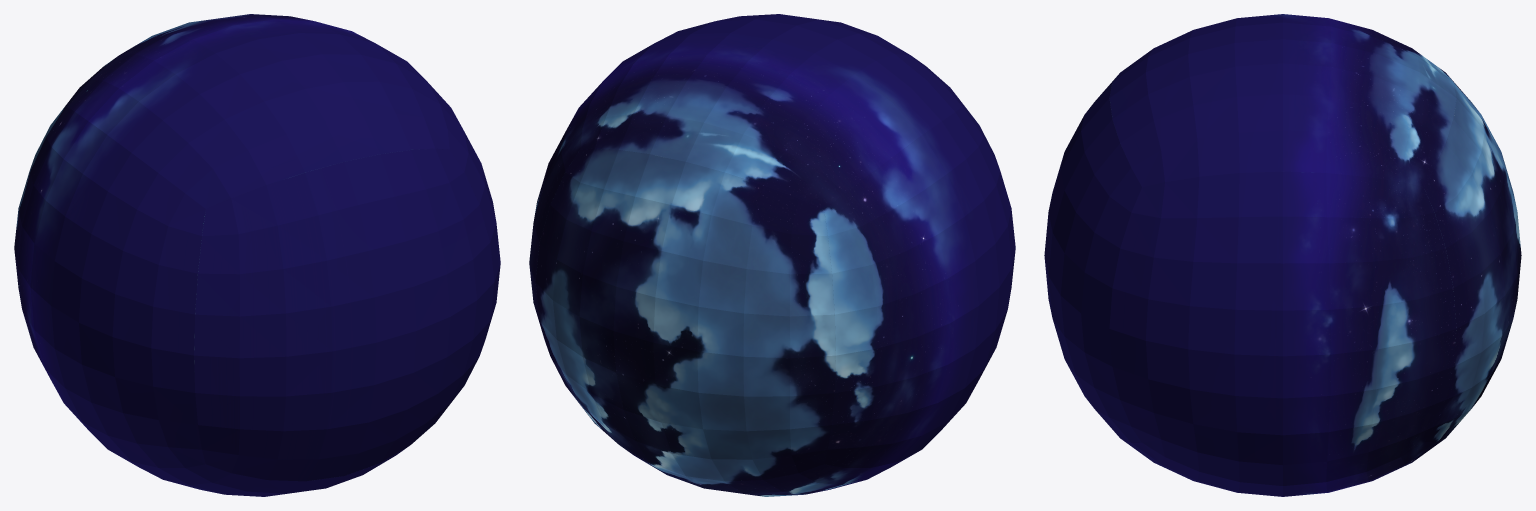
File: skybox.dae
3 renders of one model, left to right at view 1: azimuth 30°, elevation 25°; view 2: azimuth 150°, elevation 25°; view 3: azimuth 270°, elevation 25°, orthographic.
Visible parts, largest first — view 1: Bottom, Left, Back, Front, Right; view 2: Top, Left, Back, Front, Right; view 3: Right, Back, Top, Bottom, Front.
Part boxes in pixels (x1=…): Bottom: x1=194, y1=148, x2=494, y2=481; Left: x1=14, y1=106, x2=205, y2=467; Back: x1=65, y1=14, x2=449, y2=208; Front: x1=111, y1=446, x2=408, y2=496; Right: x1=427, y1=81, x2=500, y2=351; Top: x1=535, y1=148, x2=835, y2=481; Left: x1=824, y1=106, x2=1015, y2=467; Back: x1=580, y1=14, x2=964, y2=208; Front: x1=621, y1=446, x2=918, y2=496; Right: x1=529, y1=81, x2=602, y2=351; Right: x1=1109, y1=171, x2=1456, y2=485; Back: x1=1109, y1=14, x2=1456, y2=187; Top: x1=1424, y1=73, x2=1521, y2=442; Bottom: x1=1044, y1=73, x2=1141, y2=442; Front: x1=1121, y1=439, x2=1444, y2=496.
Bounding box in the file's own units: 1.97 × 1.97 × 1.97.
Materials: 6 (6 with a texture image).
